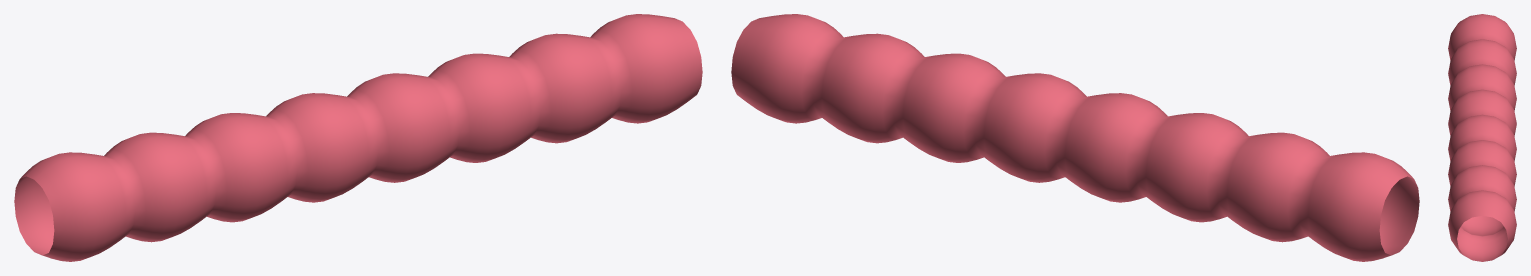
The model's file is Worm.fbx.
3 renders of one model, left to right at view 1: azimuth 30°, elevation 25°; view 2: azimuth 150°, elevation 25°; view 3: azimuth 270°, elevation 25°, orthographic. The views are drawn at different scales.
Visible parts, largest first — view 1: Cube; view 2: Cube; view 3: Cube.
Boxes of the visible parts, x1=… form: Cube: x1=14, y1=14, x2=702, y2=261; Cube: x1=731, y1=14, x2=1419, y2=261; Cube: x1=1448, y1=14, x2=1516, y2=261.
Size of the model in its own units: 11945 by 1725 by 1725.
